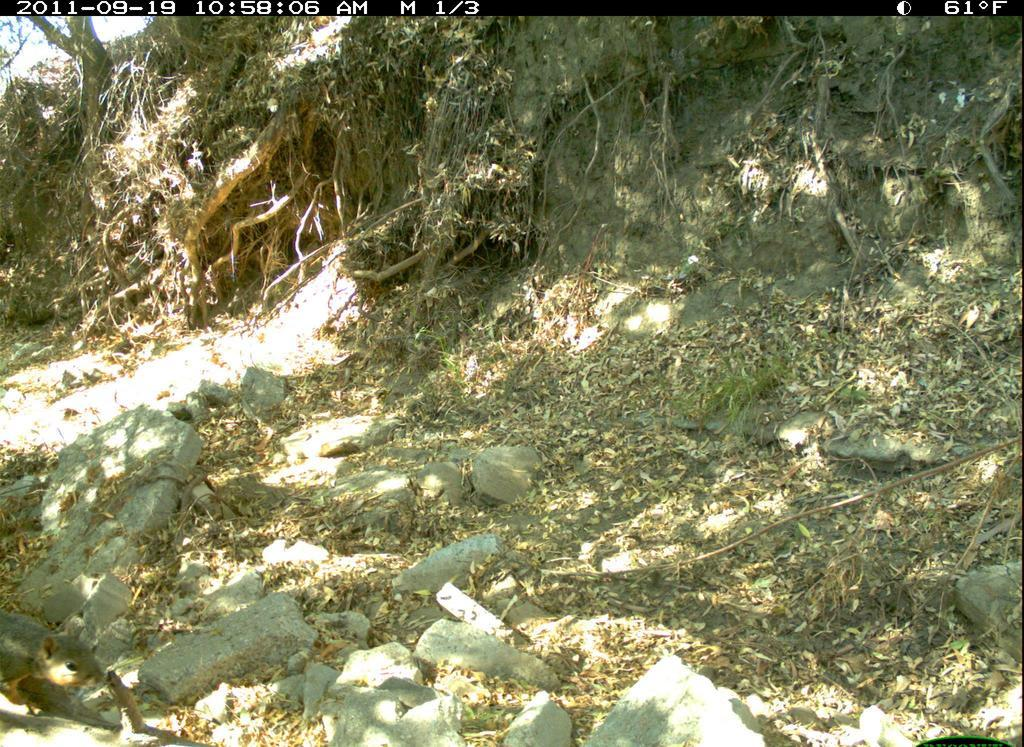squirrel: (3, 597, 113, 721)
